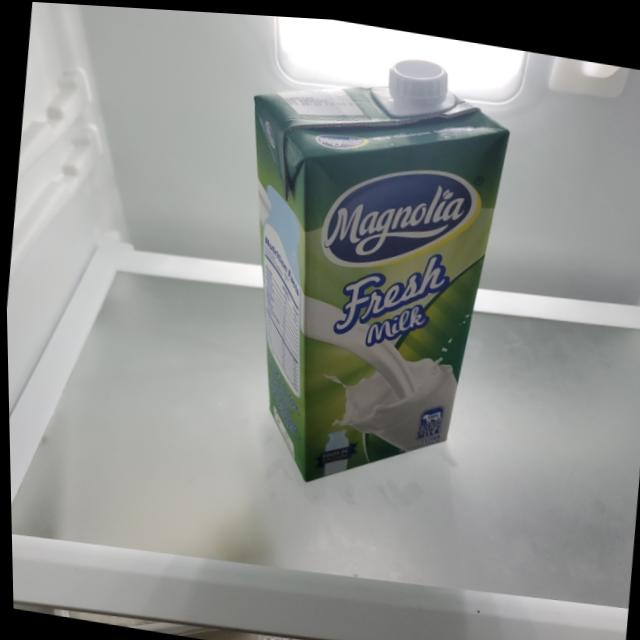milk: (213, 27, 521, 512)
